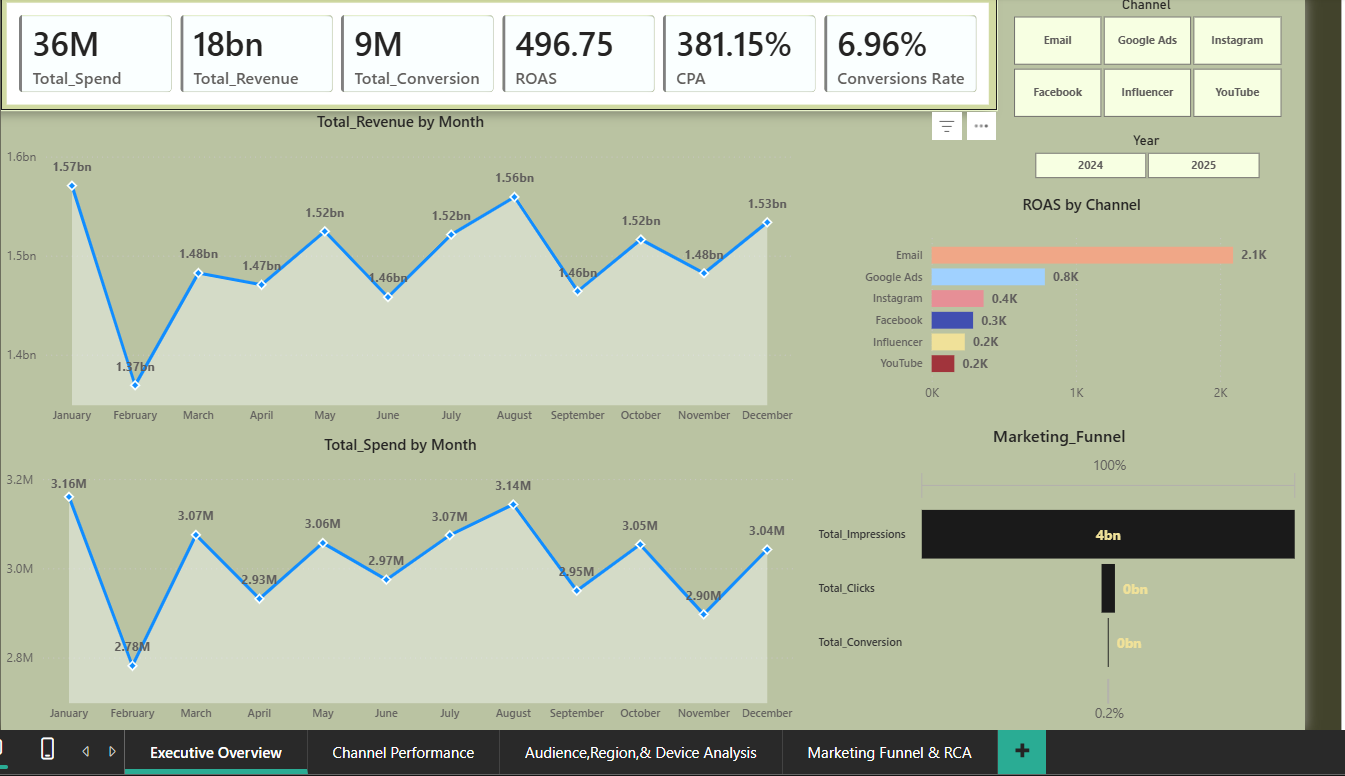

The dashboard page shown, as its layout file describes it:
{"tool":"powerbi","page":{"name":"Executive Overview","canvas":[1280,720],"ordinal":0},"visuals":[{"type":"cardVisual","fields":{"Data":["NovaMart_Marketing_Analytics_10.Total_Spend","NovaMart_Marketing_Analytics_10.Total_Revenue","NovaMart_Marketing_Analytics_10.Total_Conversion","NovaMart_Marketing_Analytics_10.ROAS","NovaMart_Marketing_Analytics_10.CPA","NovaMart_Marketing_Analytics_10.Conversions Rate"]},"box":[0,0,978.4,112.2],"z":0},{"type":"lineChart","fields":{"Category":["NovaMart_Marketing_Analytics_10.Campaign_Date.Variation.Date Hierarchy.Month"],"Y":["NovaMart_Marketing_Analytics_10.Total_Revenue"]},"box":[0,112.2,784.2,316.1],"z":1000},{"type":"barChart","fields":{"Category":["NovaMart_Marketing_Analytics_10.Channel"],"Y":["NovaMart_Marketing_Analytics_10.ROAS"]},"box":[842.1,193,437.9,213.5],"z":2000},{"type":"funnel","title":"Marketing_Funnel","fields":{"Y":["NovaMart_Marketing_Analytics_10.Total_Impressions","NovaMart_Marketing_Analytics_10.Total_Clicks","NovaMart_Marketing_Analytics_10.Total_Conversion"]},"box":[797.5,419.8,482.6,300.4],"z":3000},{"type":"lineChart","fields":{"Category":["NovaMart_Marketing_Analytics_10.Campaign_Date.Variation.Date Hierarchy.Month"],"Y":["NovaMart_Marketing_Analytics_10.Total_Spend"]},"box":[0,428.3,784.2,292],"z":4000},{"type":"slicer","title":"Channel","fields":{"Values":["NovaMart_Marketing_Analytics_10.Channel"]},"box":[967.6,0,312.5,124.3],"z":5000},{"type":"slicer","title":"Year","fields":{"Values":["NovaMart_Marketing_Analytics_10.Campaign_Date.Variation.Date Hierarchy.Year"]},"box":[989.3,133.9,270.2,50.7],"z":6000}]}

Visuals, with their boxes on the page's 1280x720 design canvas (x1, y1, x2, y2). These are canvas units, not pixel positions in the 1345x776 screenshot, which may show the page scaled, cropped or inside an application window:
cardVisual - NovaMart_Marketing_Analytics_10.Total_Spend x NovaMart_Marketing_Analytics_10.Total_Revenue: 0:0:978:112
lineChart - NovaMart_Marketing_Analytics_10.Campaign_Date.Variation.Date Hierarchy.Month x NovaMart_Marketing_Analytics_10.Total_Revenue: 0:112:784:428
barChart - NovaMart_Marketing_Analytics_10.Channel x NovaMart_Marketing_Analytics_10.ROAS: 842:193:1280:406
"Marketing_Funnel" funnel: 798:420:1280:720
lineChart - NovaMart_Marketing_Analytics_10.Campaign_Date.Variation.Date Hierarchy.Month x NovaMart_Marketing_Analytics_10.Total_Spend: 0:428:784:720
"Channel" slicer: 968:0:1280:124
"Year" slicer: 989:134:1260:185
